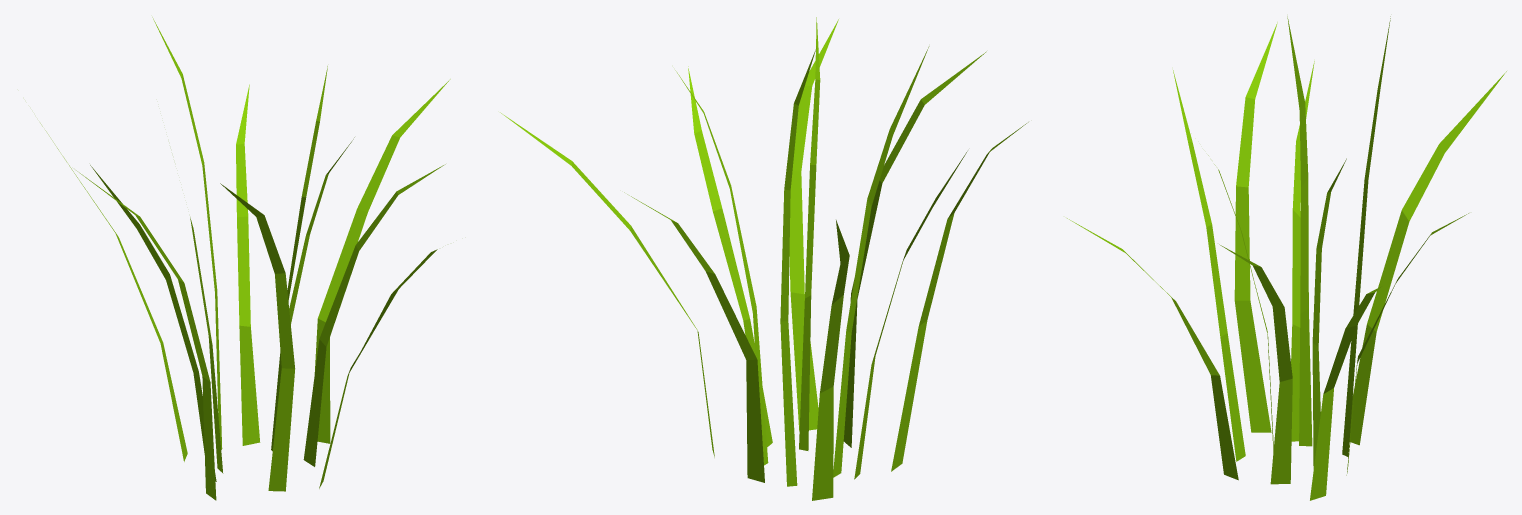
Rendered from grass.fbx.
3 renders of one model, left to right at view 1: azimuth 30°, elevation 25°; view 2: azimuth 150°, elevation 25°; view 3: azimuth 270°, elevation 25°, orthographic. The views are drawn at different scales.
Parts seen in each view (by area): view 1: Plane; view 2: Plane; view 3: Plane.
Part boxes in pixels (bbox=[...]): Plane: bbox=[40, 17, 450, 500]; Plane: bbox=[500, 17, 1028, 500]; Plane: bbox=[1067, 16, 1506, 500].
Bounding box in the file's own units: 41.95 × 46.05 × 43.75.
